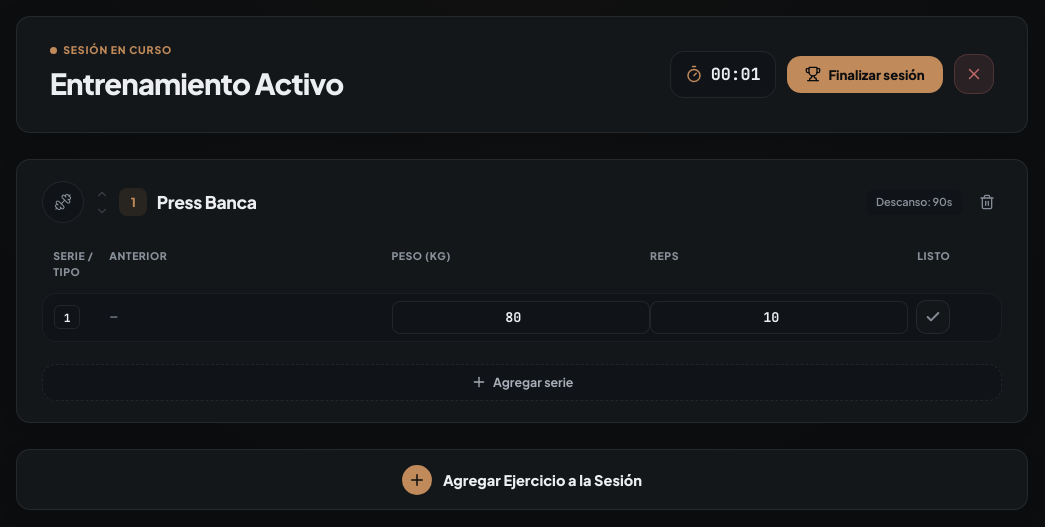
Test: ActiveWorkoutView drop set suggestion › suggests a reduced weight when cycling a set to drop_set
Click the button titled "Serie Normal": (67, 317) x1=54 y1=305 x2=80 y2=329
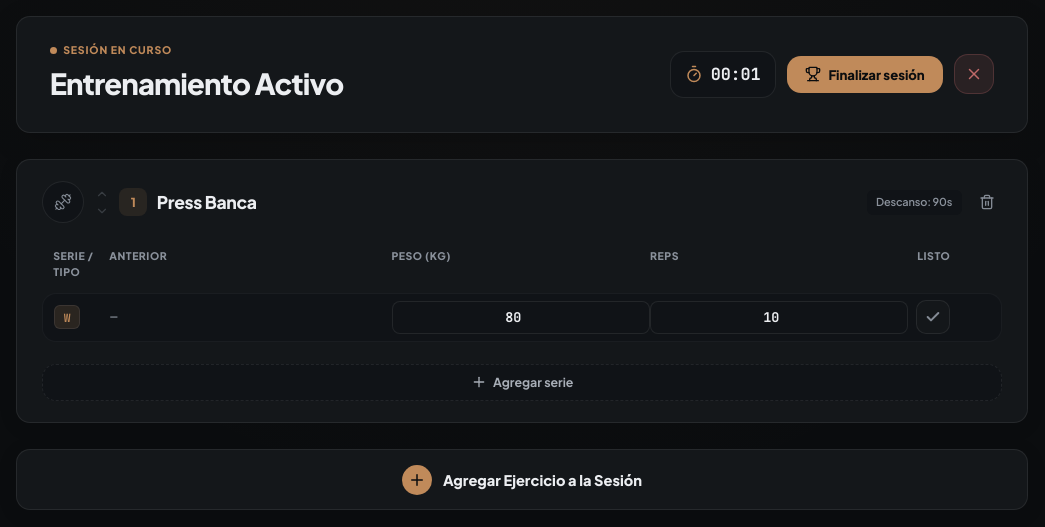
Click the button titled "Calentamiento": (67, 317) x1=54 y1=305 x2=80 y2=329
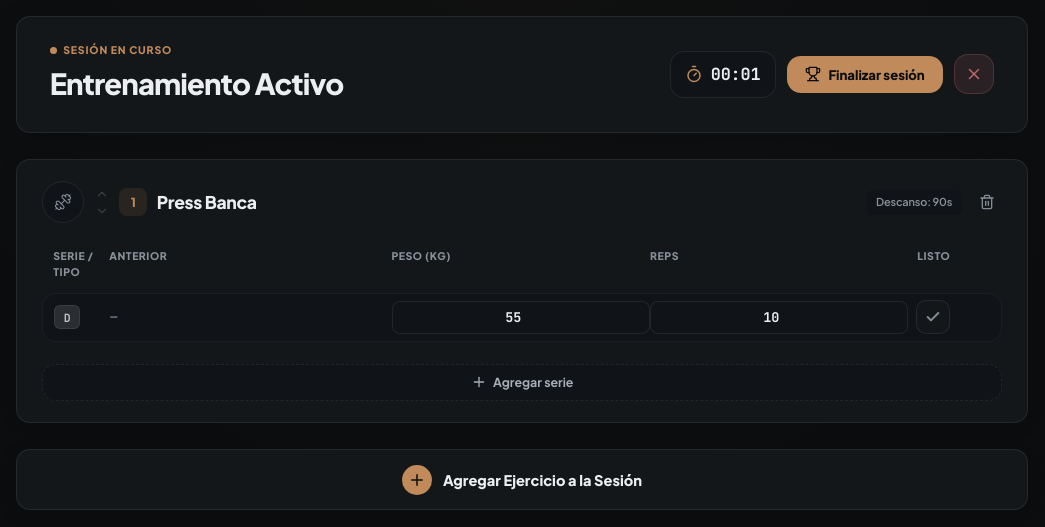
expect the 1st number field showing "55" is shown: met, box x1=392 y1=300 x2=650 y2=334
